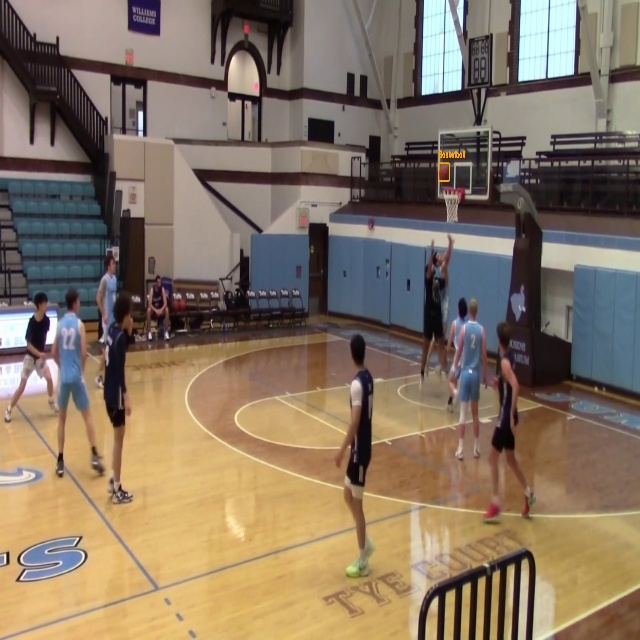Basketball: (439, 163, 449, 181)
